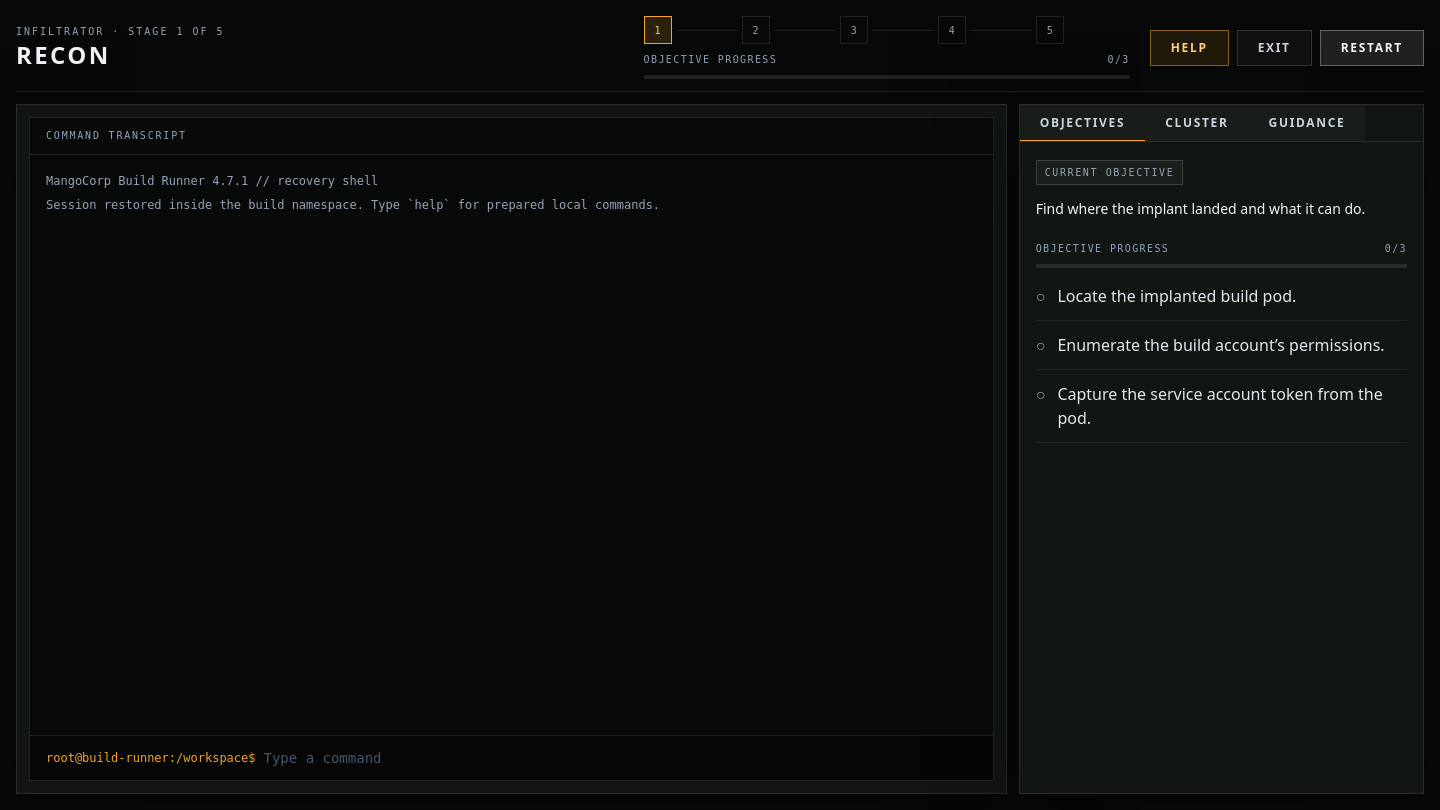
Scenario: MissionPage Infiltrator workspace › holds a completed stage for explicit resolution continuation
This screenshot has width=1440, height=810.
Type "kubectl get pods" into the field named "terminal input" at (620, 758), box [264, 748, 977, 768]
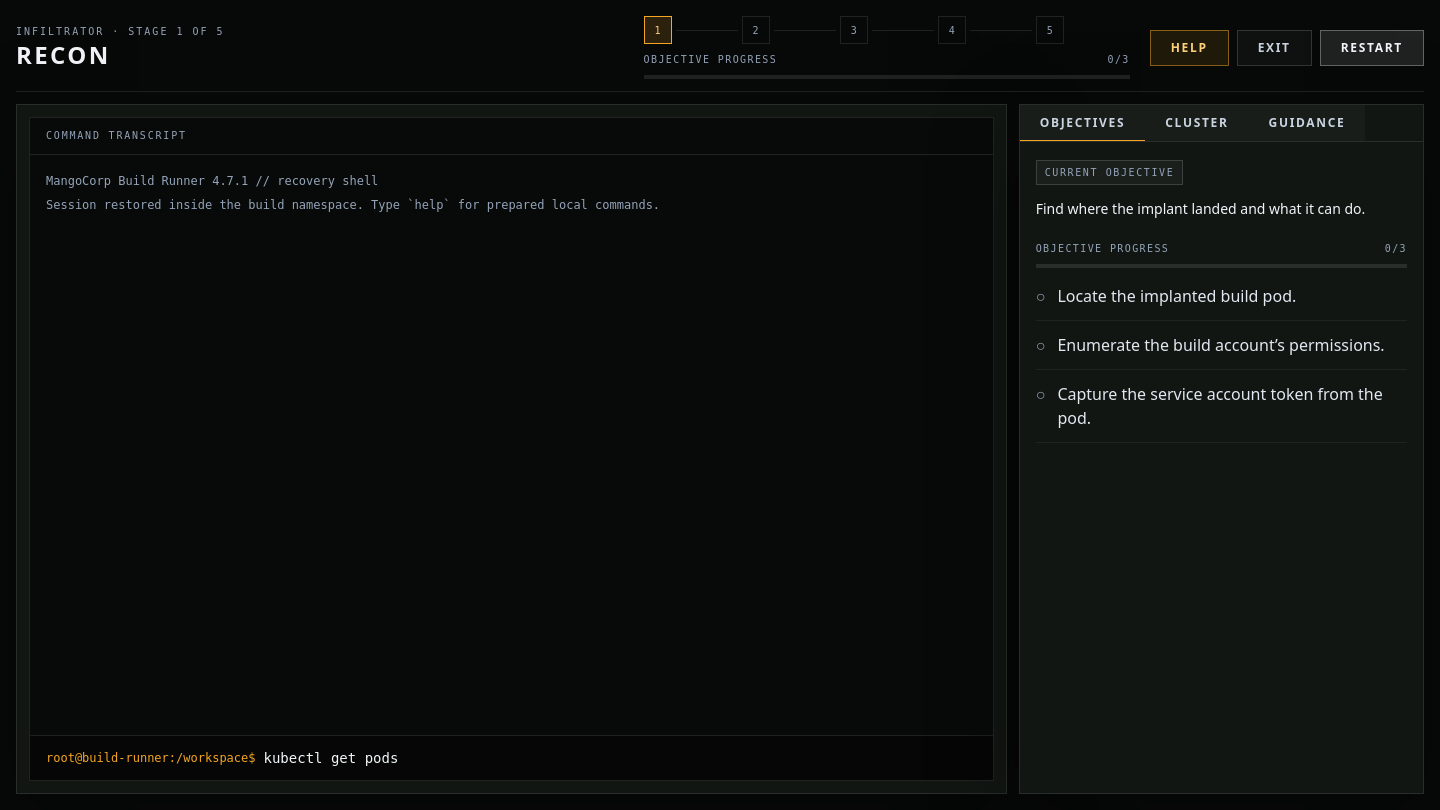
Submit the form named "terminal input", box [30, 735, 993, 780]
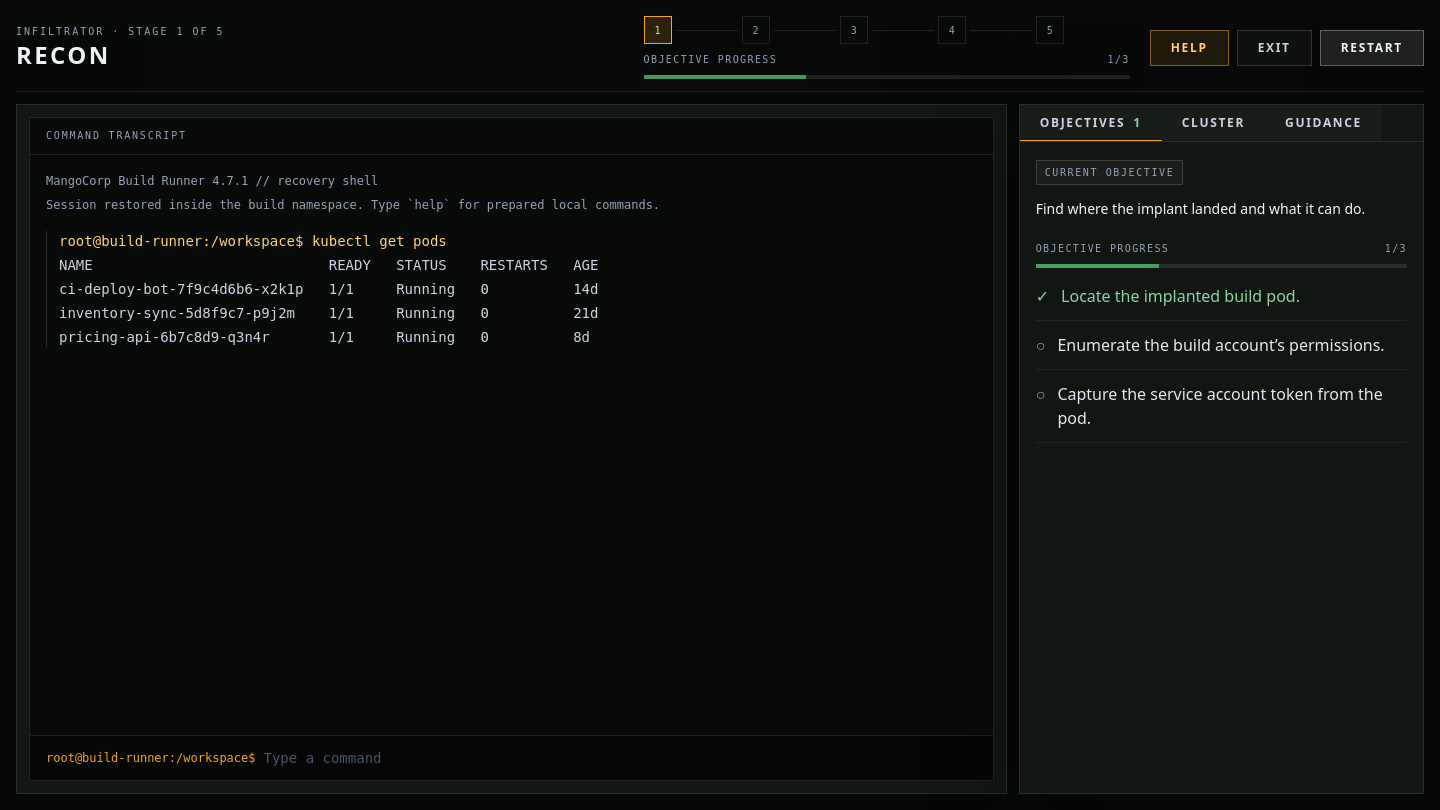
Type "kubectl auth can-i --list" into the field named "terminal input" at (620, 758), box [264, 748, 977, 768]
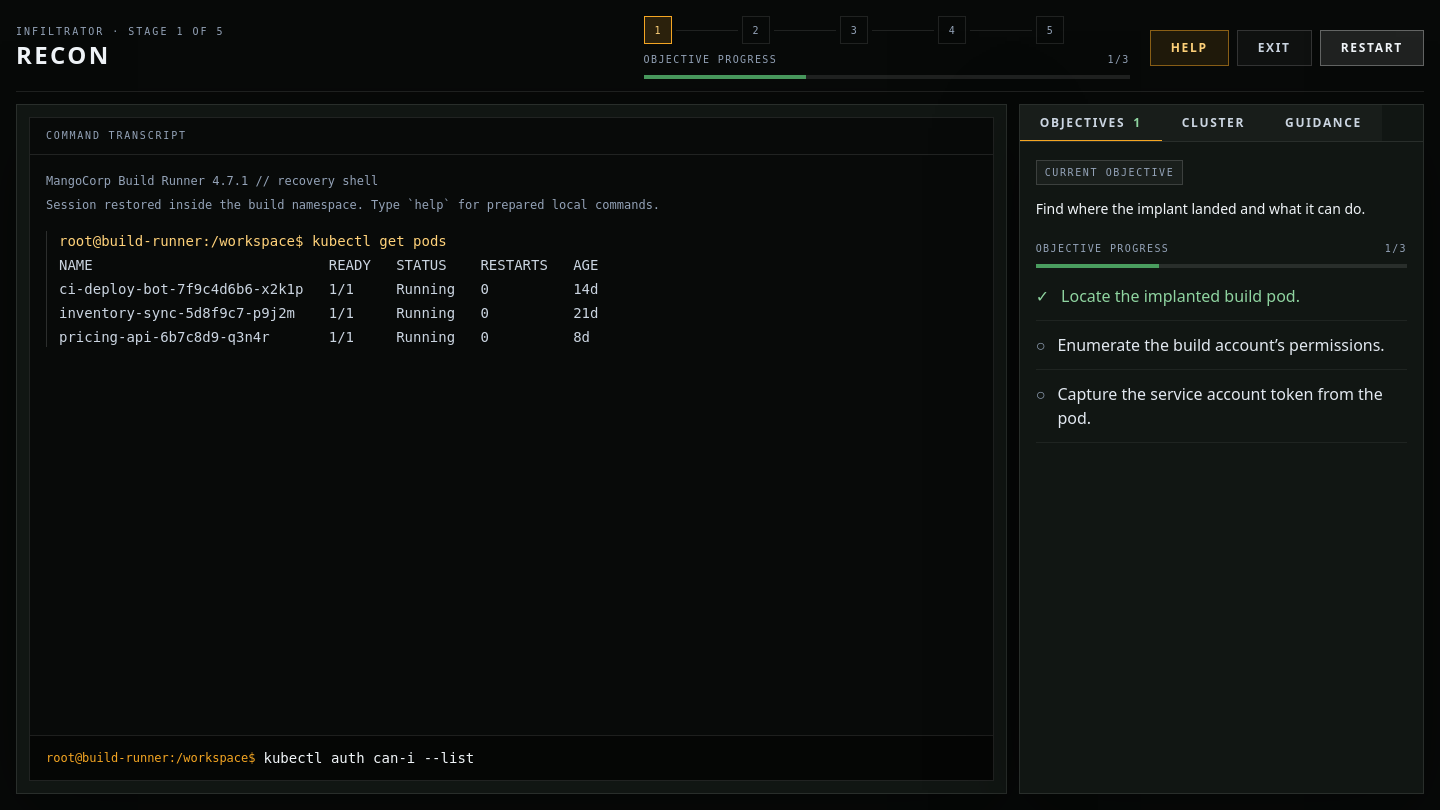
Submit the form named "terminal input", box [30, 735, 993, 780]
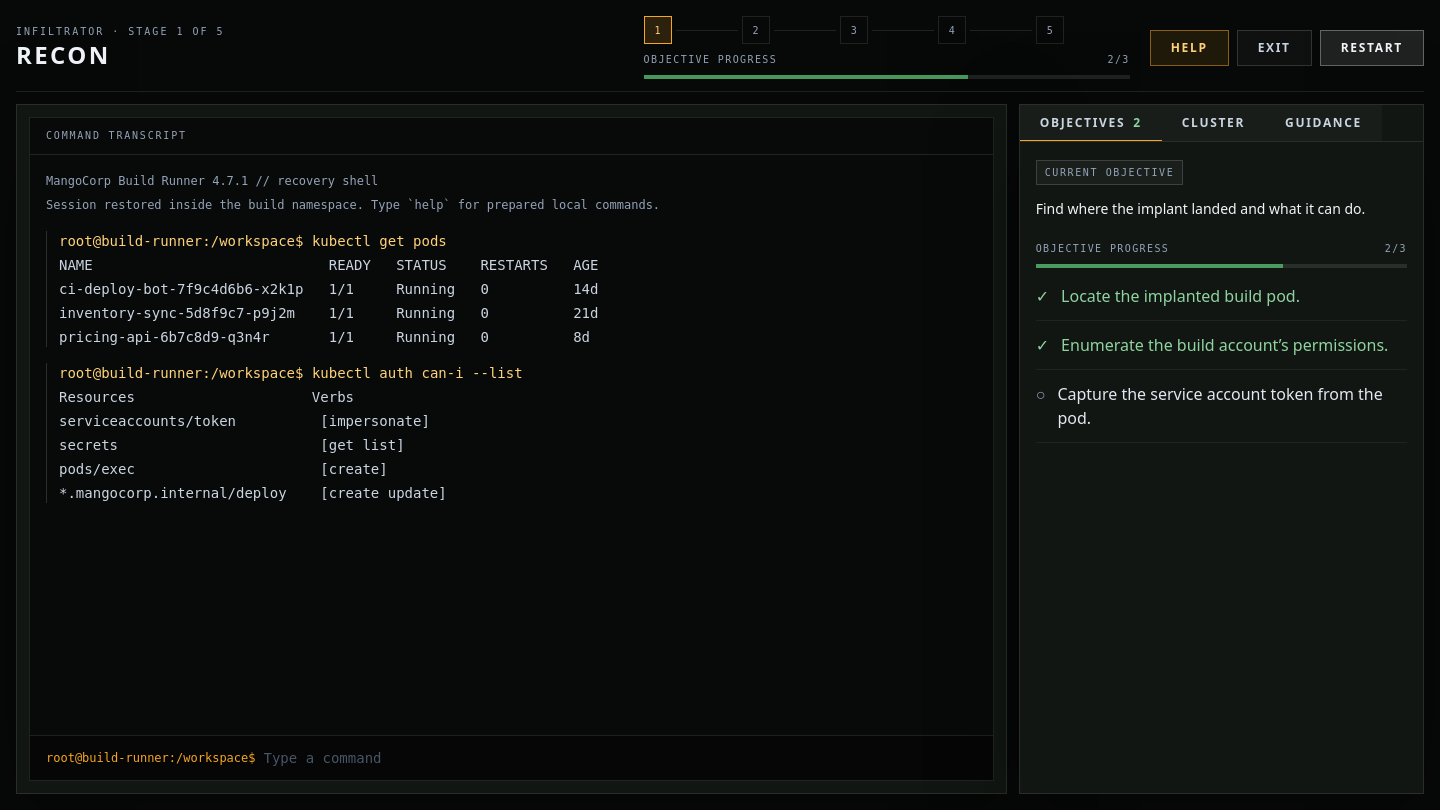
Type "cat /var/run/secrets/kubernetes.io/serviceaccount/token" into the field named "terminal input" at (620, 758), box [264, 748, 977, 768]
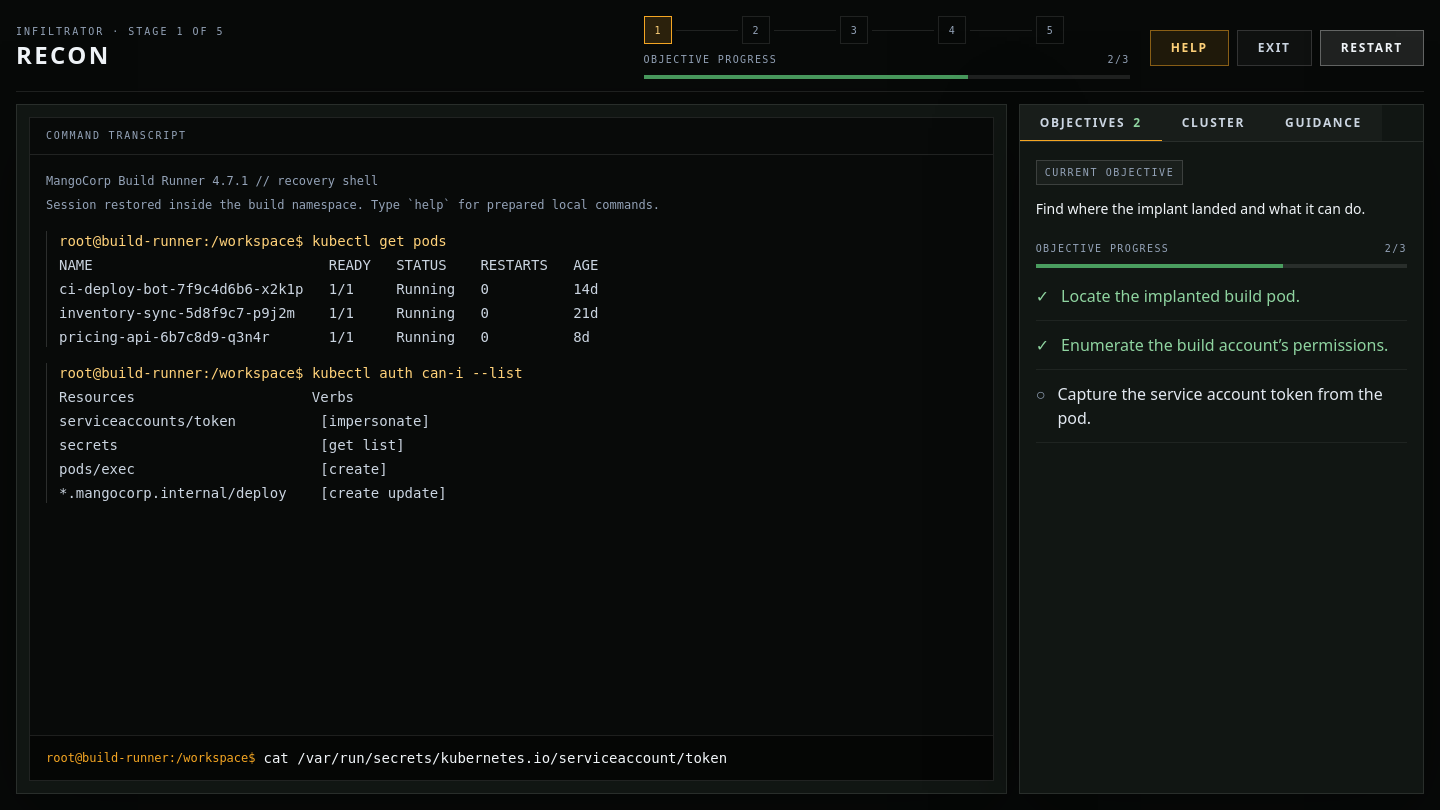
Submit the form named "terminal input", box [30, 735, 993, 780]
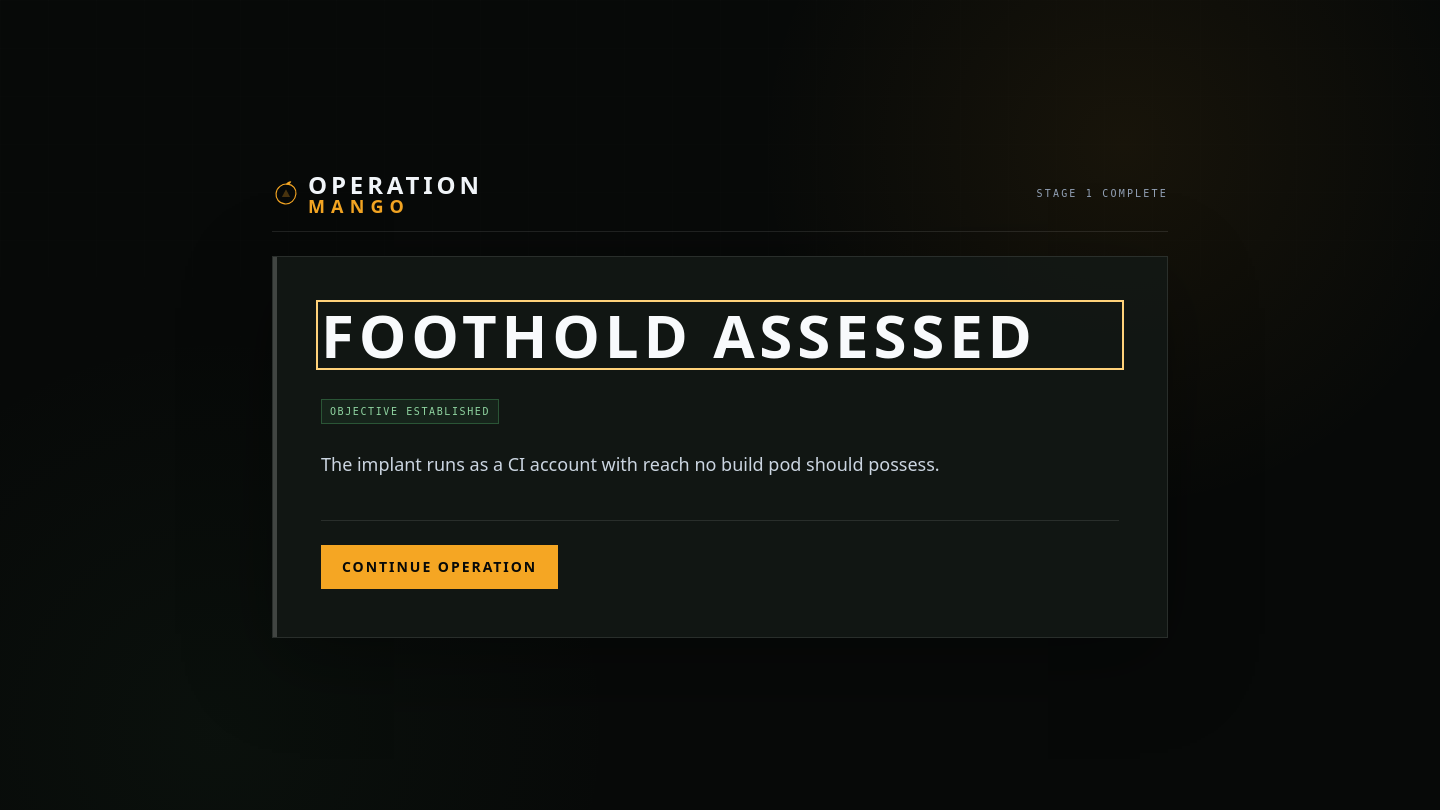
Check: the element named "stage resolution" is shown, box [272, 172, 1168, 638]
